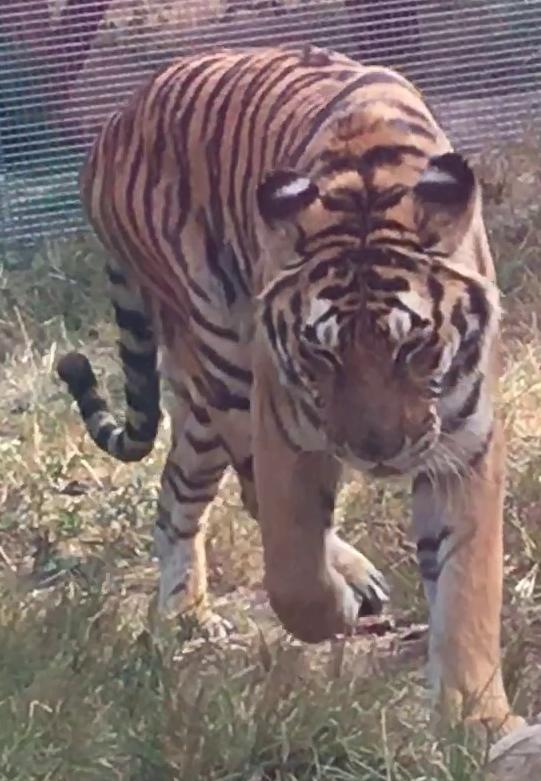tiger: (59, 47, 509, 724)
